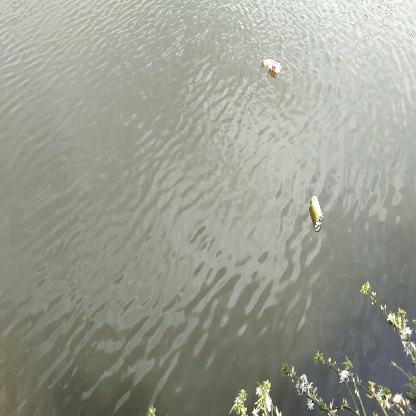bottle: (307, 194, 329, 232), (259, 54, 285, 78)
